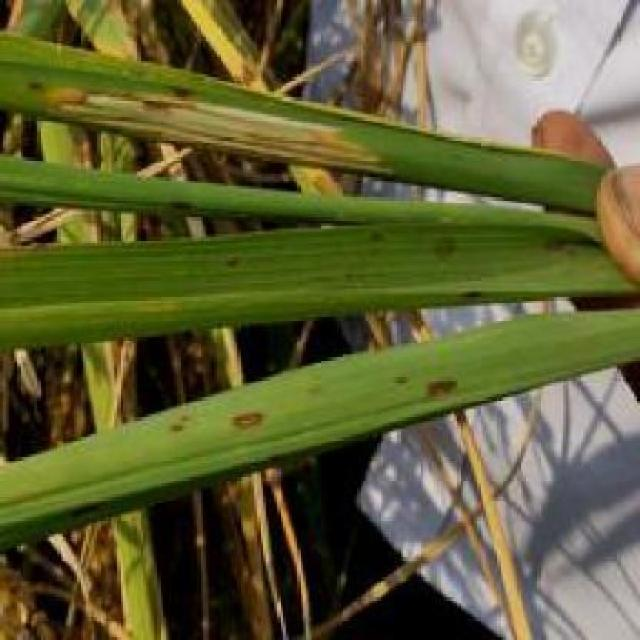Leaf_Blast: (218, 404, 285, 431), (412, 369, 471, 396), (120, 160, 180, 180), (601, 345, 639, 369), (431, 227, 462, 256), (162, 196, 207, 215), (159, 407, 196, 428), (17, 77, 60, 94), (382, 368, 418, 386), (219, 243, 246, 263), (1, 94, 24, 115), (364, 221, 388, 239)
